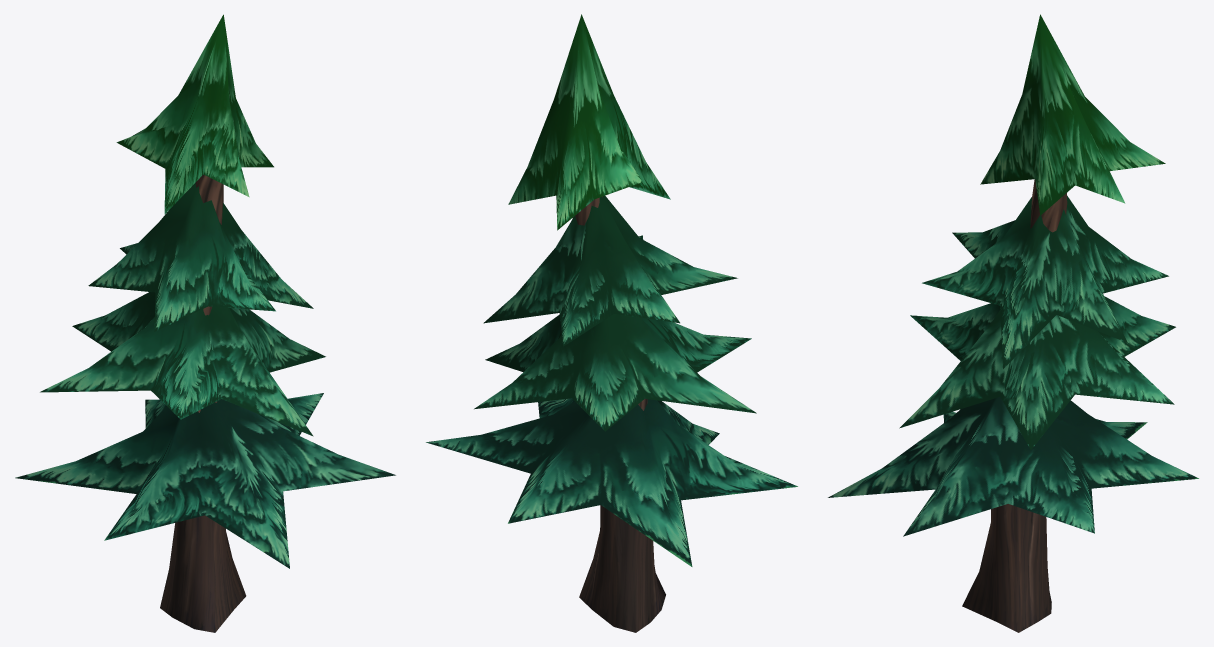
The model's file is Nspruce_2_2.fbx.
The picture shows the model from 3 angles, left to right: view 1: azimuth 30°, elevation 25°; view 2: azimuth 150°, elevation 25°; view 3: azimuth 270°, elevation 25°; orthographic projection. The views are drawn at different scales.
Visible parts, largest first — view 1: Nspruce_2_2; view 2: Nspruce_2_2; view 3: Nspruce_2_2.
Part boxes in pixels (x1,y1,x2,y2): Nspruce_2_2: (15,14,395,632); Nspruce_2_2: (426,14,797,632); Nspruce_2_2: (828,14,1198,632).
Bounding box in the file's own units: 115 × 211 × 115.
